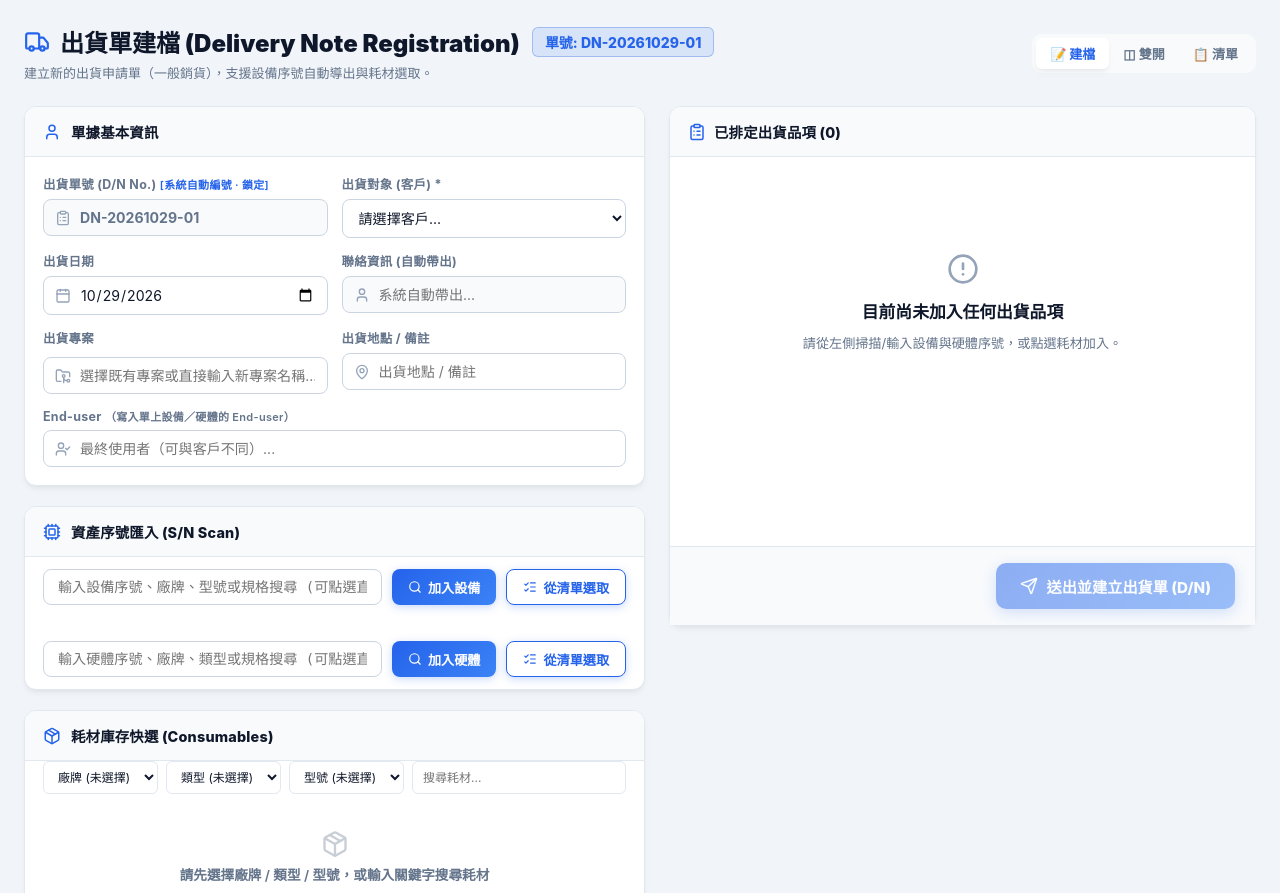
Test case: Outbound 出貨單多維度模糊搜尋與一鍵直接加入測試 › 硬體輸入規格/廠牌關鍵字時，能模糊搜尋出相符在庫硬體，點選直接加入出貨單
// 輸入規格與廠牌關鍵字：例如打 "Samsung 32G"
Type "Samsung 32G" into the field with placeholder "輸入硬體序號、廠牌、類型或規格搜尋 (可點選直接加入)..." at (212, 659), box [43,641,382,677]
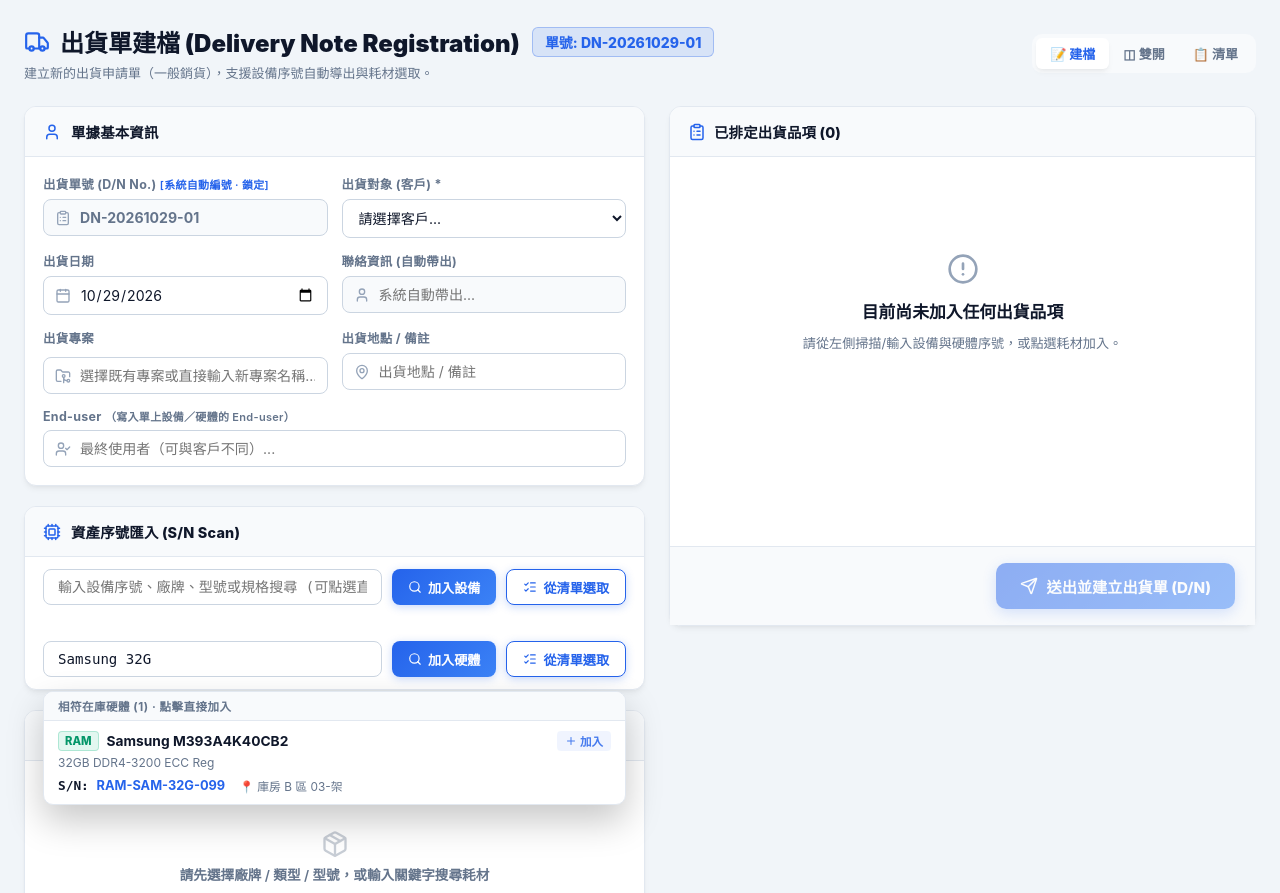
Now the text "相符在庫硬體 (1) · 點擊直接加入" is shown, box [58,700,232,714]
Now the text "RAM-SAM-32G-099" is shown, box [96,778,225,793]
Now the text "32GB DDR4-3200 ECC Reg" is shown, box [58,755,214,770]
// 點選該項目（一鍵加入）
Press the mouse on the text "RAM-SAM-32G-099" at (78, 741), box [44,721,625,804]
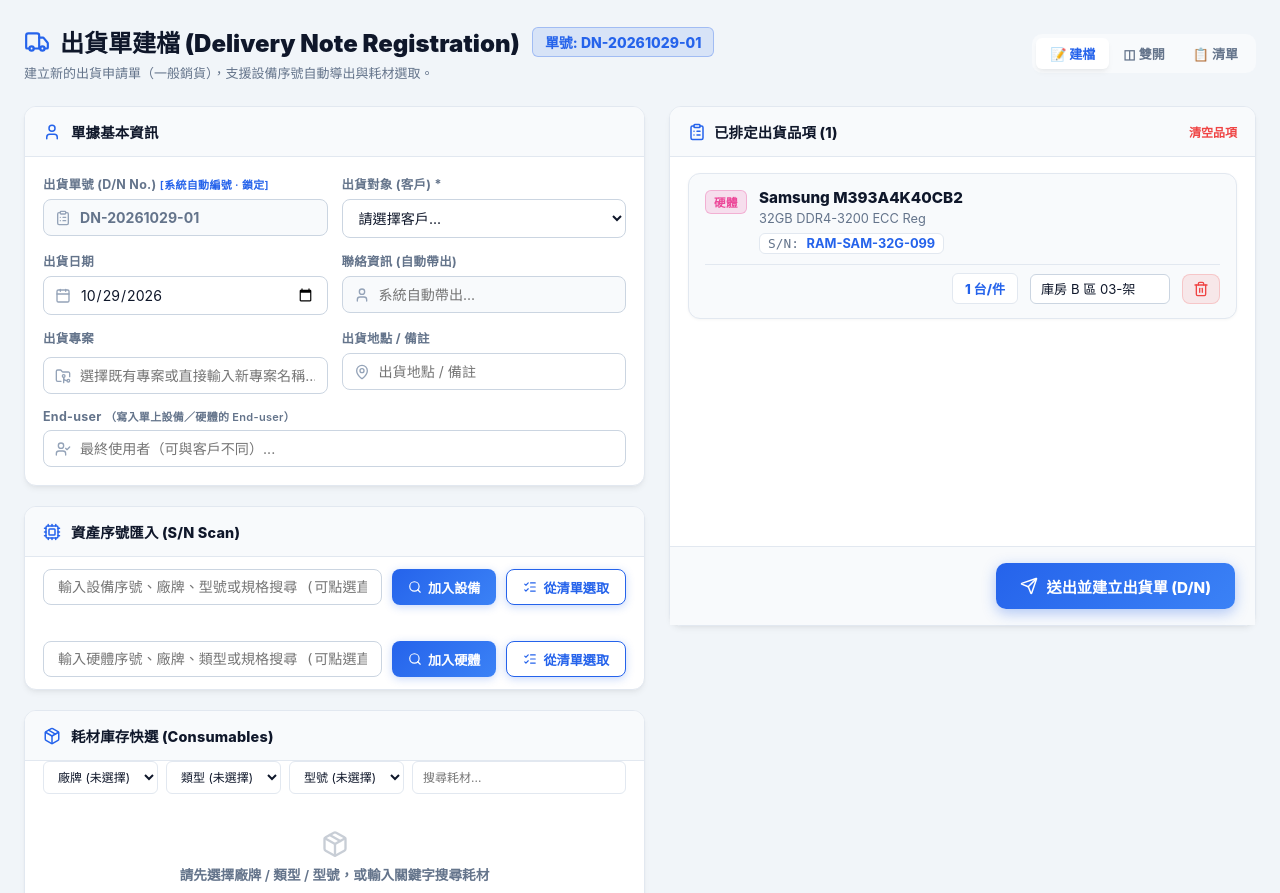
Now the text "已排定出貨品項 (1)" is shown, box [714,121,838,142]
Now the field with placeholder "輸入硬體序號、廠牌、類型或規格搜尋 (可點選直接加入)..." is empty, box [43,641,382,677]
